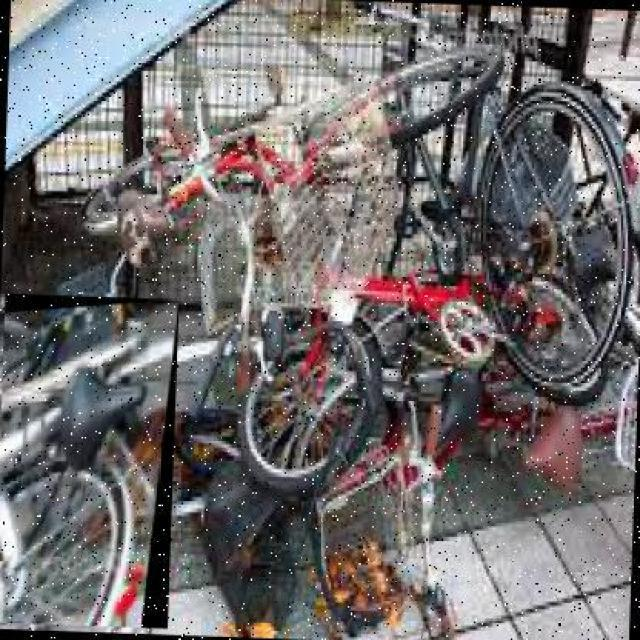bicycle: (1, 293, 179, 631)
